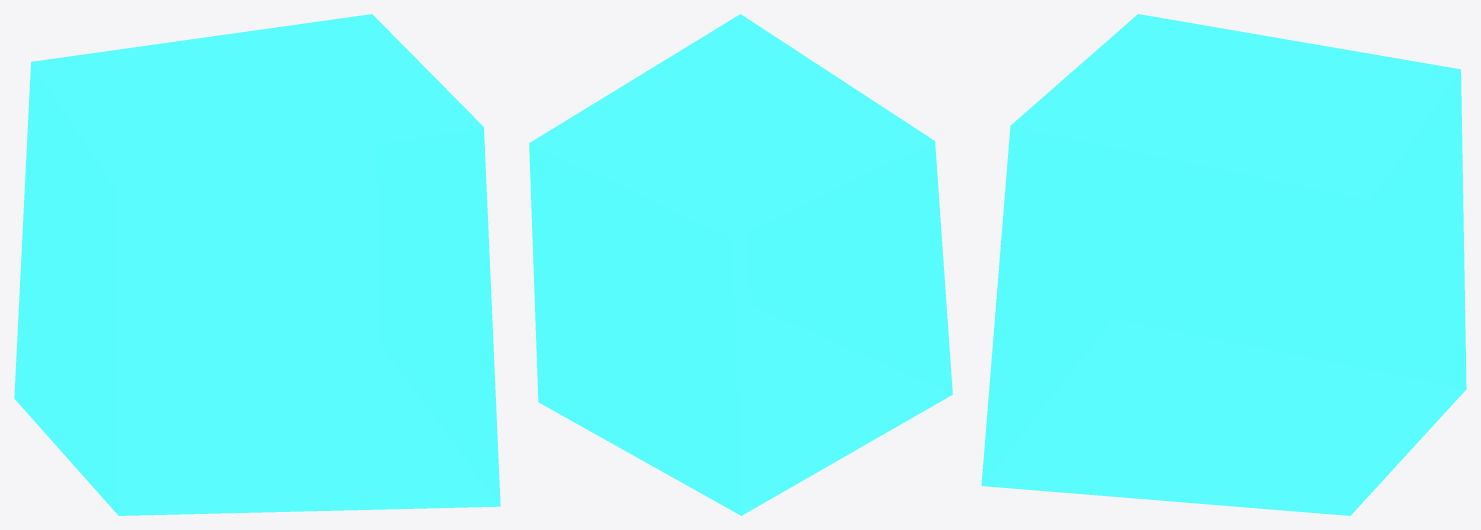
The model's file is p_mesh_workbench_cube.fbx.
The picture shows the model from 3 angles, left to right: view 1: azimuth 30°, elevation 25°; view 2: azimuth 150°, elevation 25°; view 3: azimuth 270°, elevation 25°; orthographic projection. The views are drawn at different scales.
Visible parts, largest first — view 1: hologram1_cubes01; view 2: hologram1_cubes01; view 3: hologram1_cubes01.
Boxes of the visible parts, bbox=[...] form: hologram1_cubes01: bbox=[14, 14, 500, 515]; hologram1_cubes01: bbox=[529, 14, 952, 515]; hologram1_cubes01: bbox=[981, 14, 1466, 515].
Size of the model in its own units: 0.2168 by 0.2069 by 0.2422.
